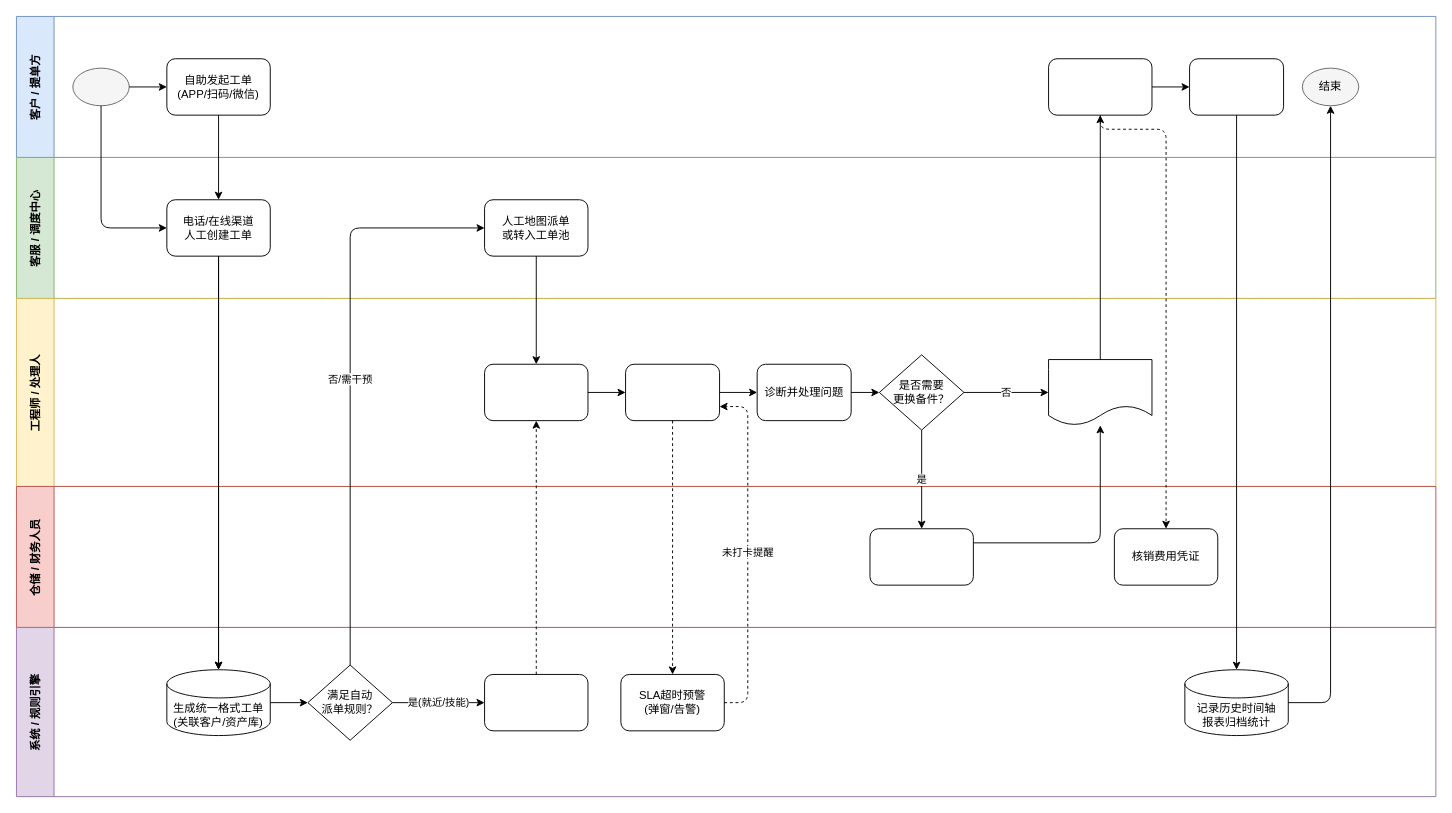
Some shapes in this 1452 by 813 pixel diagram are drawn without their labels. Each missing label, with the centre of its shape:
"到达现场 GPS定位打卡" goes at (672,392).
"启动SLA监控 多重消息提醒" goes at (536,702).
"备件出库审核 & 资产调拨" goes at (921,556).
"开始" goes at (100,86).
"录入处理回执 提交完工确认" goes at (1100,392).
"接收工单或 从工单池抢单" goes at (536,392).
"满意度评价" goes at (1236,86).
"现场验收签名 & 缴费" goes at (1100,86).
